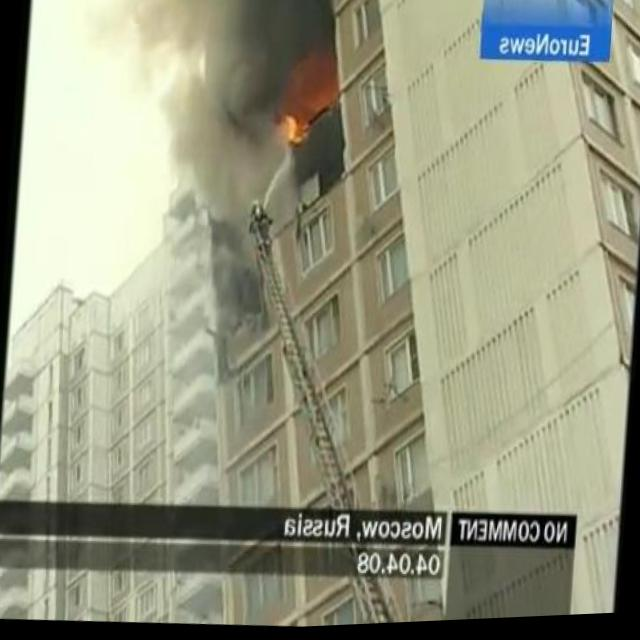fire: (272, 107, 313, 154)
